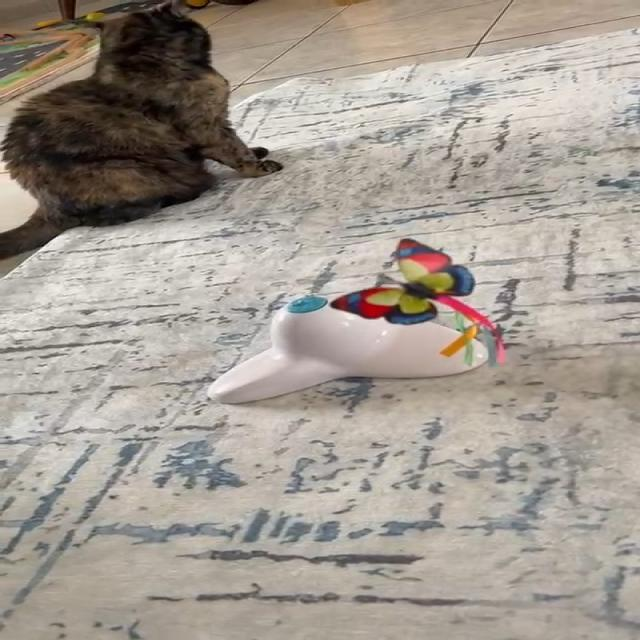authorized: (0, 0, 283, 261)
